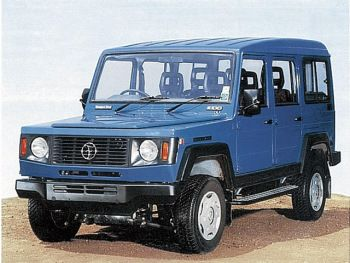Vehicle: (14, 34, 344, 254)
